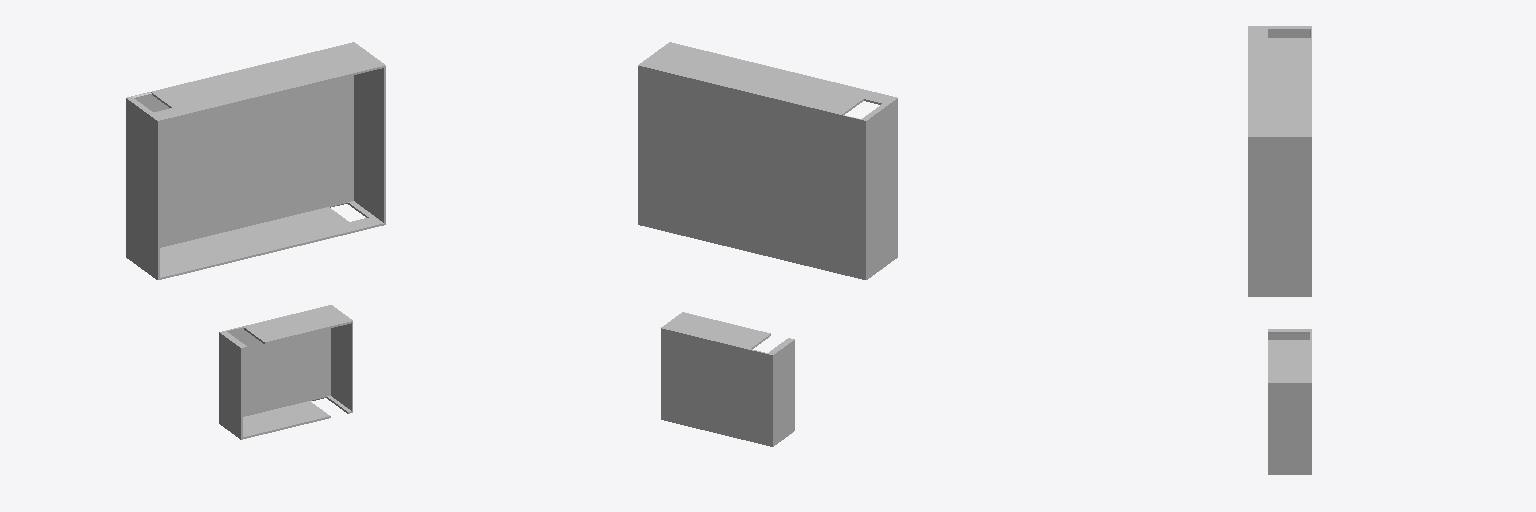
File: tinker.obj
3 renders of one model, left to right at view 1: azimuth 30°, elevation 25°; view 2: azimuth 150°, elevation 25°; view 3: azimuth 270°, elevation 25°, orthographic.
Parts seen in each view (by area): view 1: obj_0; view 2: obj_0; view 3: obj_0.
Part boxes in pixels (x1,y1,x2,y2): obj_0: (126, 42, 385, 439); obj_0: (638, 42, 897, 446); obj_0: (1248, 26, 1311, 474).
Size of the model in its own units: 120 by 175 by 29.